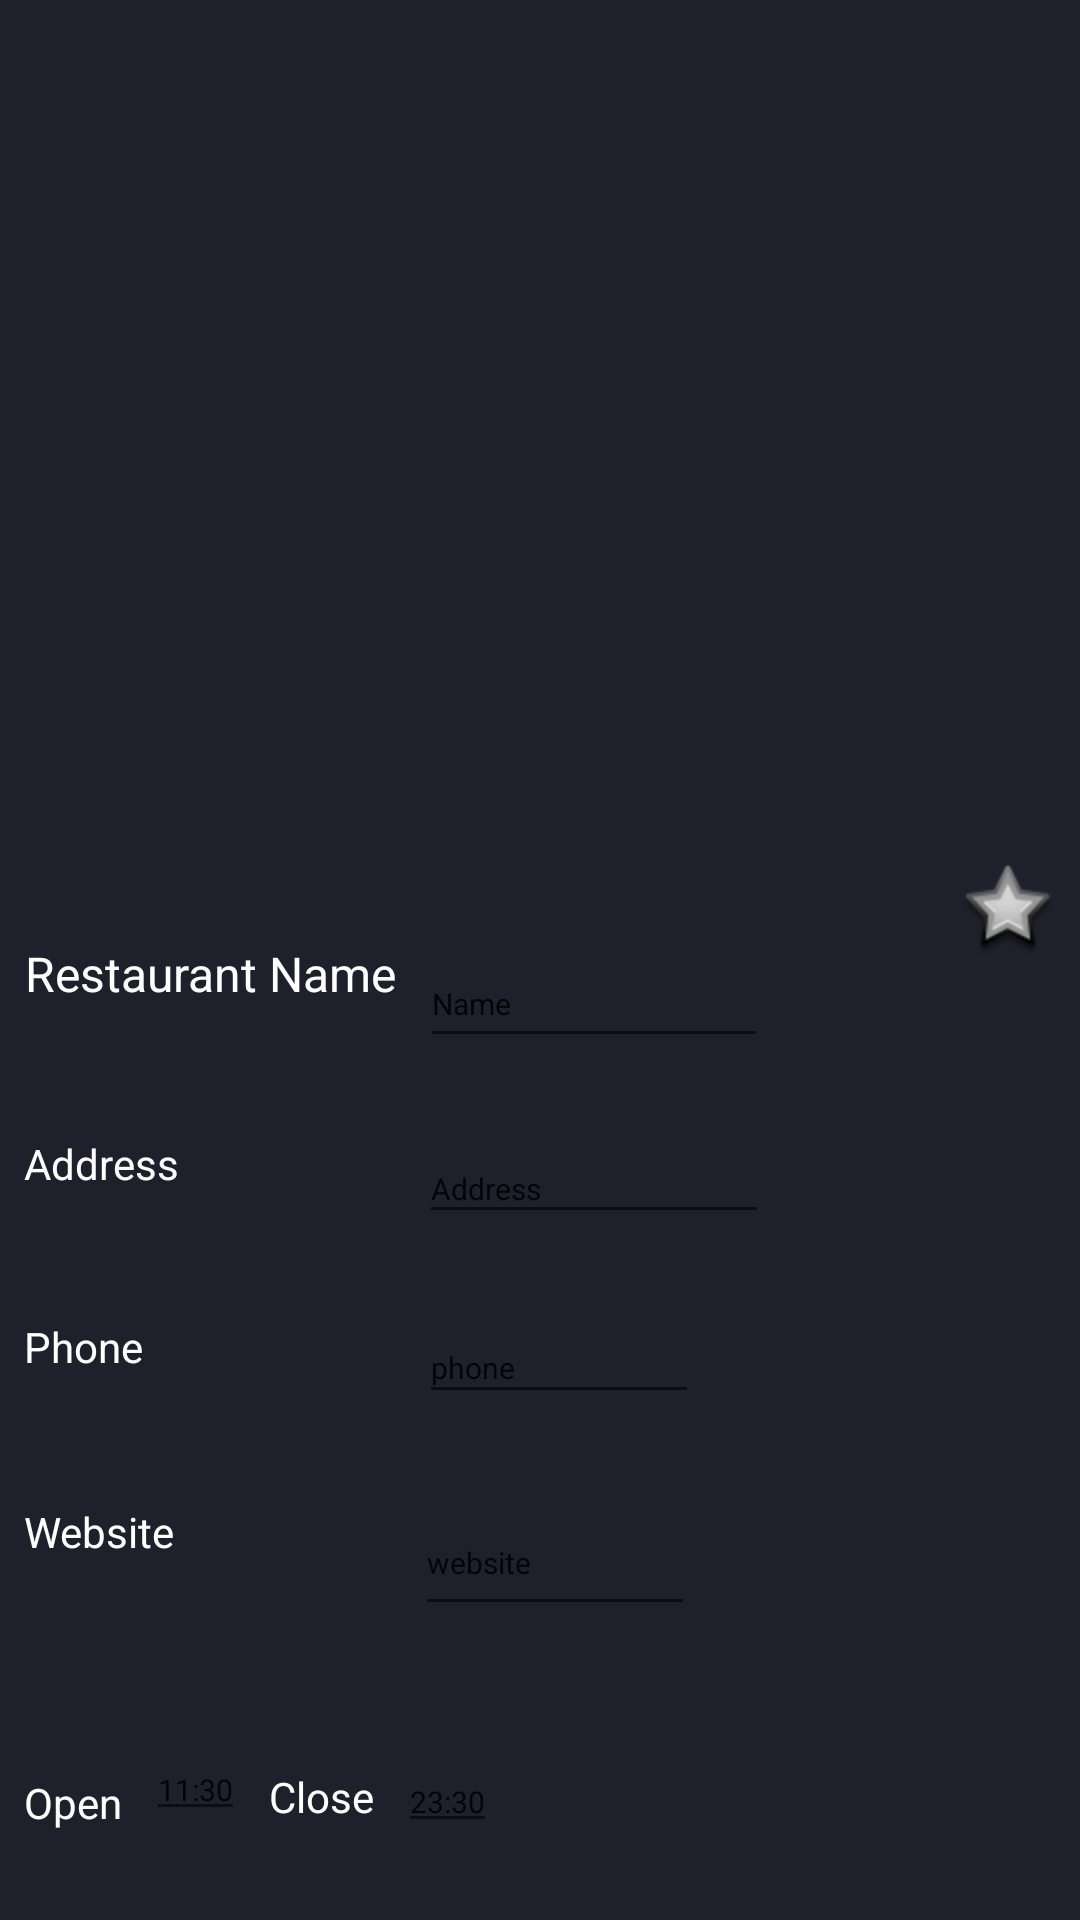

Where to tap for icons on this 1080w x 1920h app screen, as point (x, y):
star off: point (1008, 905)
